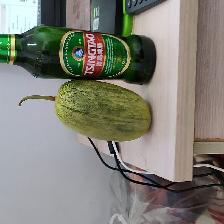gua: (45, 81, 156, 142)
